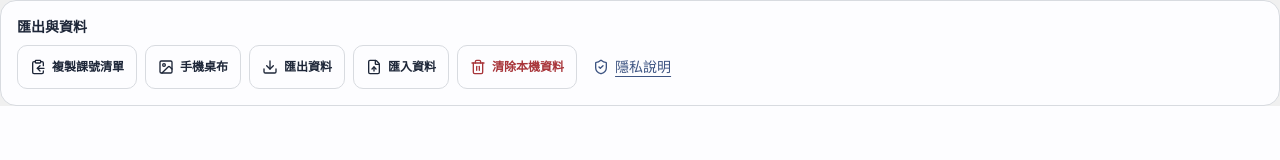
Test case: DataPanel › copies the registration codes
Click the button "複製課號清單": (77,67) [17,45,137,89]
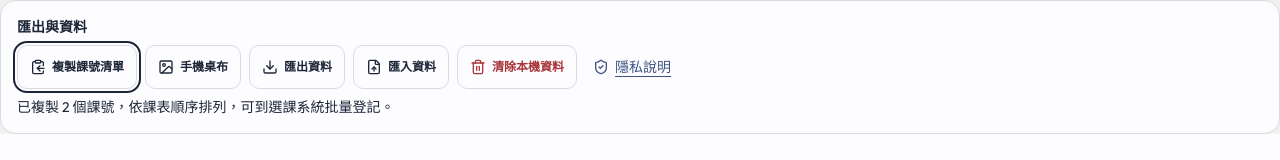
Now the message named "資料操作結果" shows "已複製 2 個課號", box [17,98,394,116]
